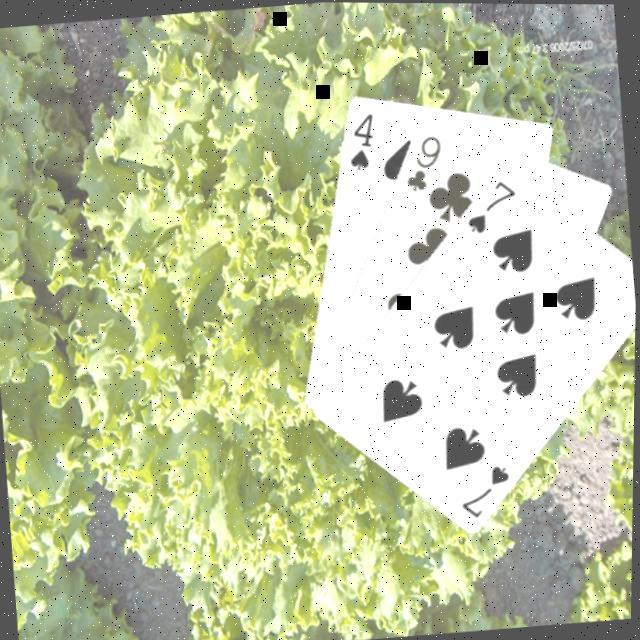4S: (343, 108, 381, 174)
7S: (460, 174, 524, 237), (456, 460, 520, 522)
9C: (400, 130, 450, 196)
